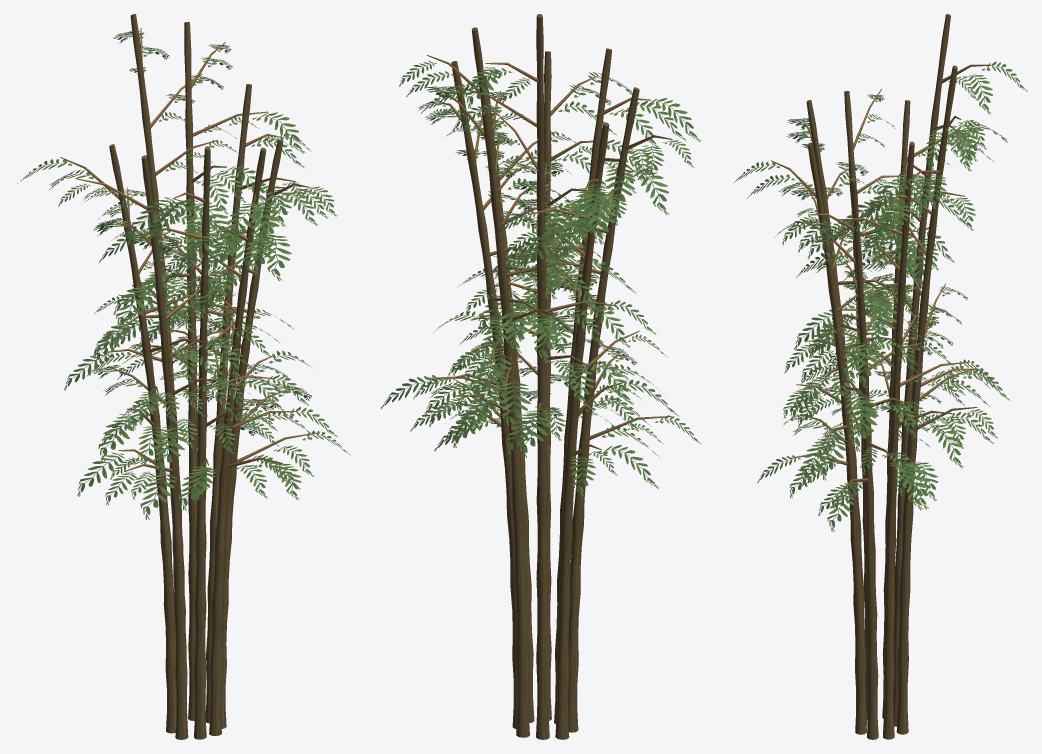
Rendered from mountain_bamboo_clump.glb.
3 renders of one model, left to right at view 1: azimuth 30°, elevation 25°; view 2: azimuth 150°, elevation 25°; view 3: azimuth 270°, elevation 25°, orthographic. The views are drawn at different scales.
Parts seen in each view (by area): view 1: mountain_bamboo_clump; view 2: mountain_bamboo_clump; view 3: mountain_bamboo_clump.
Boxes of the visible parts, <box> form: mountain_bamboo_clump: <box>17,14,350,739</box>; mountain_bamboo_clump: <box>380,14,700,739</box>; mountain_bamboo_clump: <box>734,14,1027,739</box>.
Bounding box in the file's own units: 3.2 × 7.8 × 3.
2 materials, 2 textured.
